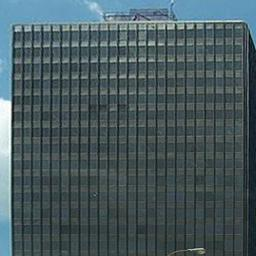building: (11, 21, 246, 256)
